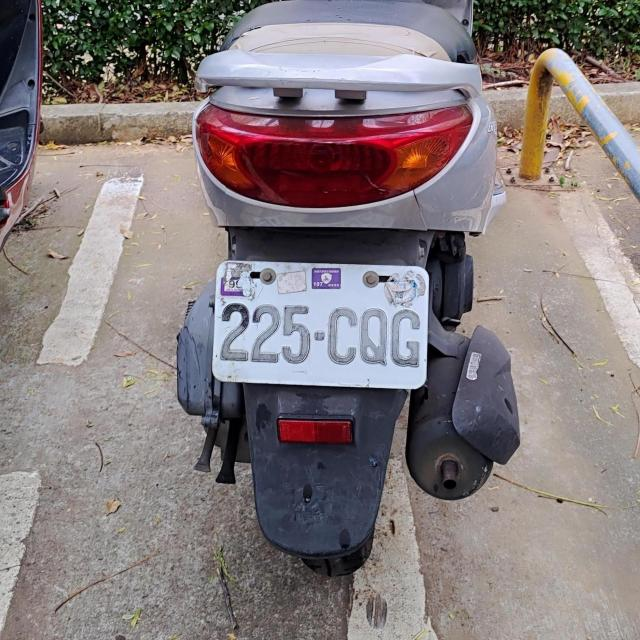W: (212, 258, 428, 387)
